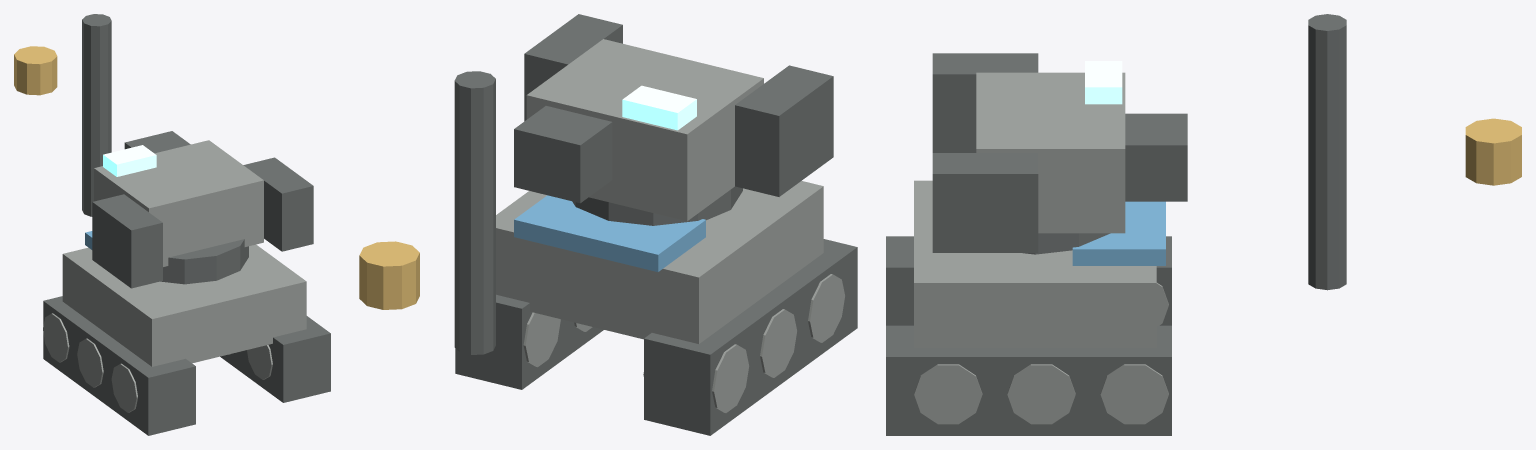
File: hx_gunner_.glb
The picture shows the model from 3 angles, left to right: view 1: azimuth 30°, elevation 25°; view 2: azimuth 150°, elevation 25°; view 3: azimuth 270°, elevation 25°; orthographic projection. The views are drawn at different scales.
Parts seen in each view (by area): view 1: hull, turret, track_L, ammo_L, cannon_barrel, track_R, ammo_R, turret_ring, cannon_muzzle, optic, wheel_L_1, wheel_L_0 (+3 smaller); view 2: hull, turret, track_L, cannon_barrel, ammo_L, cannon_mount, hull_accent, track_R, cannon_muzzle, ammo_R, optic, turret_ring (+4 smaller); view 3: hull, turret, track_R, ammo_R, cannon_barrel, ammo_L, cannon_mount, hull_accent, cannon_muzzle, track_L, wheel_R_1, wheel_R_0 (+3 smaller).
Boxes of the visible parts, <box> form: hull: <box>62,244,306,366</box>; turret: <box>94,140,263,266</box>; track_L: <box>43,296,195,435</box>; ammo_L: <box>92,194,162,288</box>; cannon_barrel: <box>82,14,111,216</box>; track_R: <box>220,316,330,402</box>; ammo_R: <box>243,157,313,251</box>; turret_ring: <box>160,239,248,284</box>; cannon_muzzle: <box>14,46,57,95</box>; optic: <box>103,145,156,176</box>; wheel_L_1: <box>77,338,103,387</box>; wheel_L_0: <box>43,313,69,362</box>; hull: <box>496,181,823,343</box>; turret: <box>526,39,763,221</box>; track_L: <box>644,239,857,435</box>; cannon_barrel: <box>454,71,495,354</box>; ammo_L: <box>735,65,833,196</box>; cannon_mount: <box>514,106,612,203</box>; hull_accent: <box>514,195,705,271</box>; track_R: <box>455,294,603,389</box>; cannon_muzzle: <box>359,241,419,309</box>; ammo_R: <box>524,14,622,121</box>; optic: <box>622,85,696,130</box>; turret_ring: <box>572,186,742,225</box>; hull: <box>914,180,1156,347</box>; turret: <box>976,72,1125,233</box>; track_R: <box>886,325,1171,435</box>; ammo_R: <box>932,153,1038,252</box>; cannon_barrel: <box>1308,14,1346,290</box>; ammo_L: <box>932,53,1038,152</box>; cannon_mount: <box>1125,113,1187,201</box>; hull_accent: <box>1072,201,1165,265</box>; cannon_muzzle: <box>1465,118,1521,185</box>; track_L: <box>886,236,1171,325</box>; wheel_R_1: <box>1007,364,1075,424</box>; wheel_R_0: <box>1100,364,1168,424</box>.
Size of the model in its own units: 0.935 by 1.3 by 2.05.
